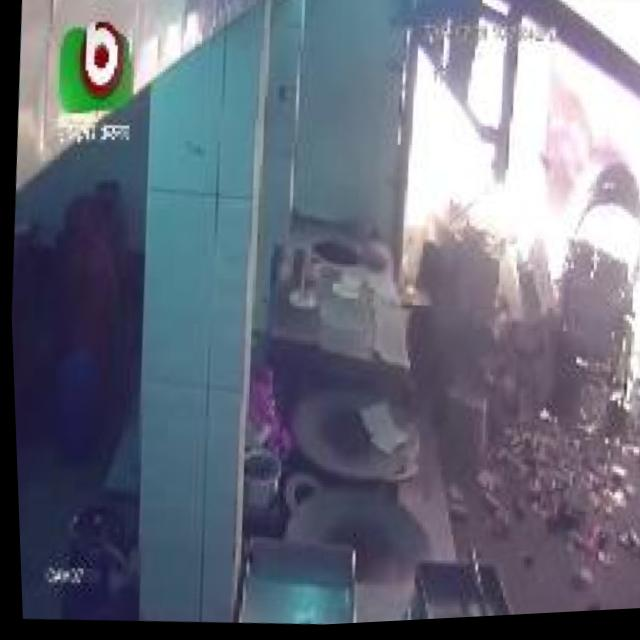fire: (395, 11, 640, 320), (515, 0, 640, 401)
